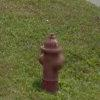Hydrant: (32, 26, 74, 94)
